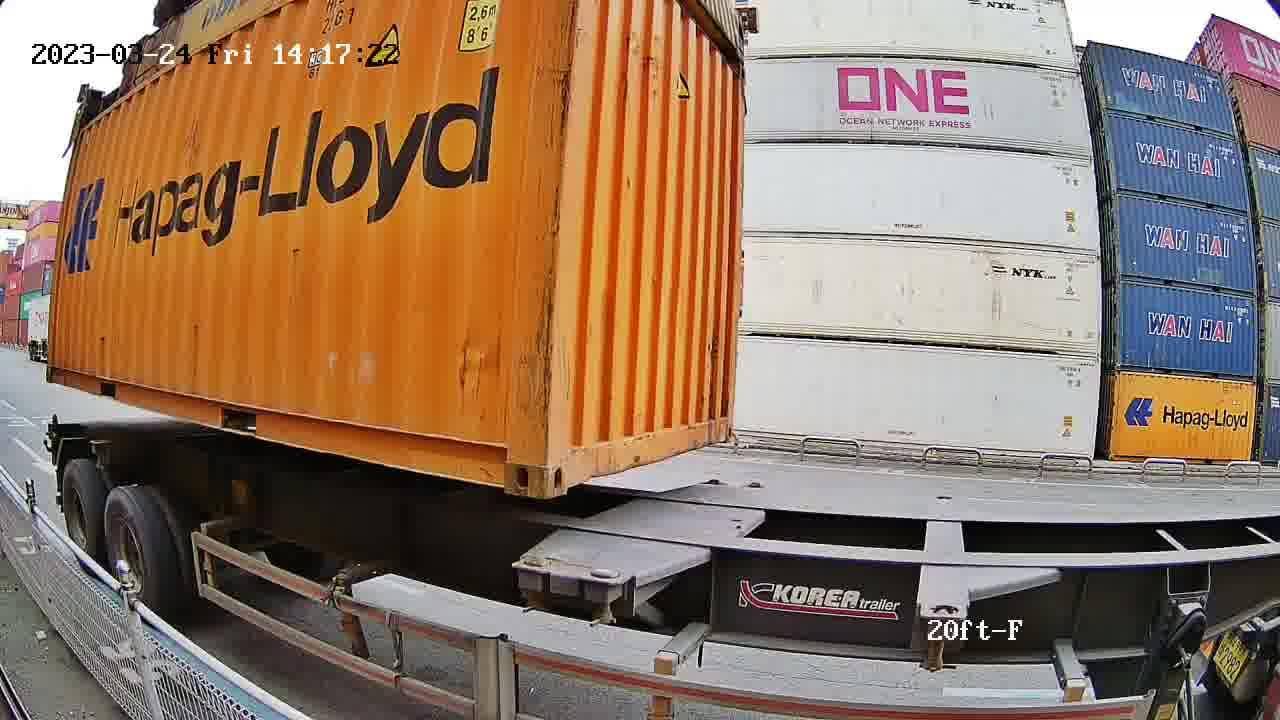Chassis: (515, 480, 728, 572), (588, 484, 766, 584)
Cone: (515, 553, 556, 616), (586, 567, 626, 629)
Hole_L: (544, 410, 597, 497)
Hole_R: (466, 409, 548, 498)
Tire: (105, 490, 159, 613), (62, 462, 101, 567)
